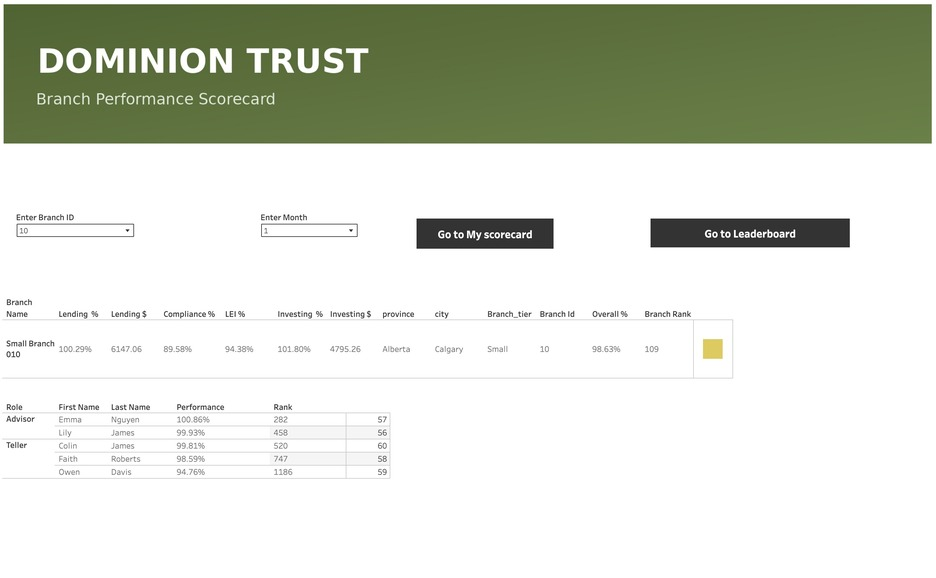

The page's visual inventory and layout, read from the dashboard file:
{"tool":"tableau","page":{"name":"Branch View","canvas":[1000,1000],"units":"permille","ordinal":0},"visuals":[{"type":"image","param":"/Users/saran/Downloads/dominion_trust_branch_performance_scorecard_banner_1.png","box":[3.1,5.7,993.7,988.7]},{"type":"dashboard-object","box":[438.4,286.7,93.5,40.2]},{"type":"dashboard-object","box":[302.6,289.8,84,39.4]},{"type":"parameter","param":"[Parameters].[Parameter 3623807528333328]","box":[153.5,295.2,69,34]},{"type":"parameter","param":"[Parameters].[Parameter 3623807549329428]","box":[17.7,296.8,69,34]},{"type":"worksheet","title":"Sheet 3","mark":"Automatic","rows":["branch_name","lending_pct_to_target","lending_actual_total","compliance_pct_to_target","lei_pct_to_target","investing_pct_to_target","investing_actual_total","province","city","branch_tier","branch_id","manager_weighted_total_score"],"box":[16.4,411.1,811.2,221]},{"type":"worksheet","title":"Sheet 4","mark":"Automatic","rows":["role","first_name","last_name","weighted_total_score","rank_within_role"],"box":[15.1,660.7,467.2,236.5]}]}

Visuals, with their boxes on the dashboard's canvas, which has no fixed pixel size, in thousandths of its width and height (x1, y1, x2, y2). These are canvas units, not pixel positions in the 936x578 screenshot, which may show the page scaled, cropped or inside an application window:
image: <region>3, 6, 997, 994</region>
dashboard-object: <region>438, 287, 532, 327</region>
dashboard-object: <region>303, 290, 387, 329</region>
parameter: <region>154, 295, 222, 329</region>
parameter: <region>18, 297, 87, 331</region>
"Sheet 3" worksheet: <region>16, 411, 828, 632</region>
"Sheet 4" worksheet: <region>15, 661, 482, 897</region>
